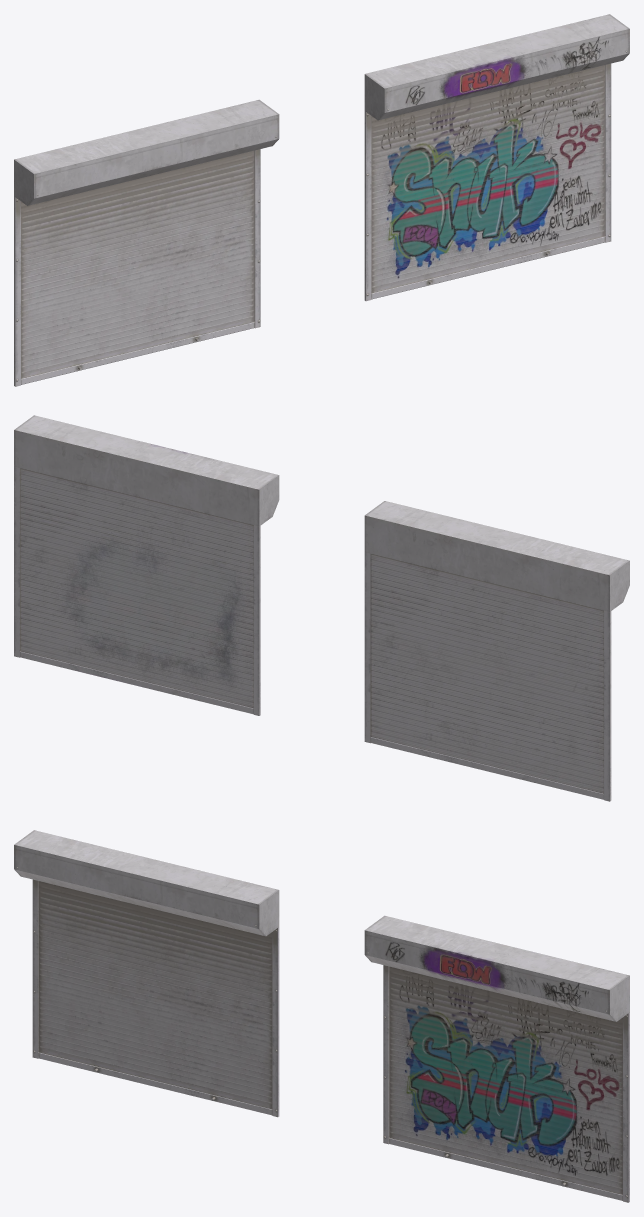
File: rollershutter_window_01.optimized.glb
3 views of the same model, one above another, from view 1: azimuth 30°, elevation 25°; view 2: azimuth 150°, elevation 25°; view 3: azimuth 330°, elevation 25° (orthographic).
Visible parts, largest first — view 1: rollershutter_window_01_graffiti, rollershutter_window_01; view 2: rollershutter_window_01, rollershutter_window_01_graffiti; view 3: rollershutter_window_01, rollershutter_window_01_graffiti.
Part boxes in pixels (<box>): rollershutter_window_01_graffiti: <box>364,14,629,301</box>; rollershutter_window_01: <box>14,99,279,386</box>; rollershutter_window_01: <box>364,501,629,801</box>; rollershutter_window_01_graffiti: <box>14,415,279,715</box>; rollershutter_window_01: <box>14,830,279,1117</box>; rollershutter_window_01_graffiti: <box>364,915,629,1202</box>.
Bounding box in the file's own units: 5.1 × 1.85 × 0.2999.
2 materials, 2 textured.
